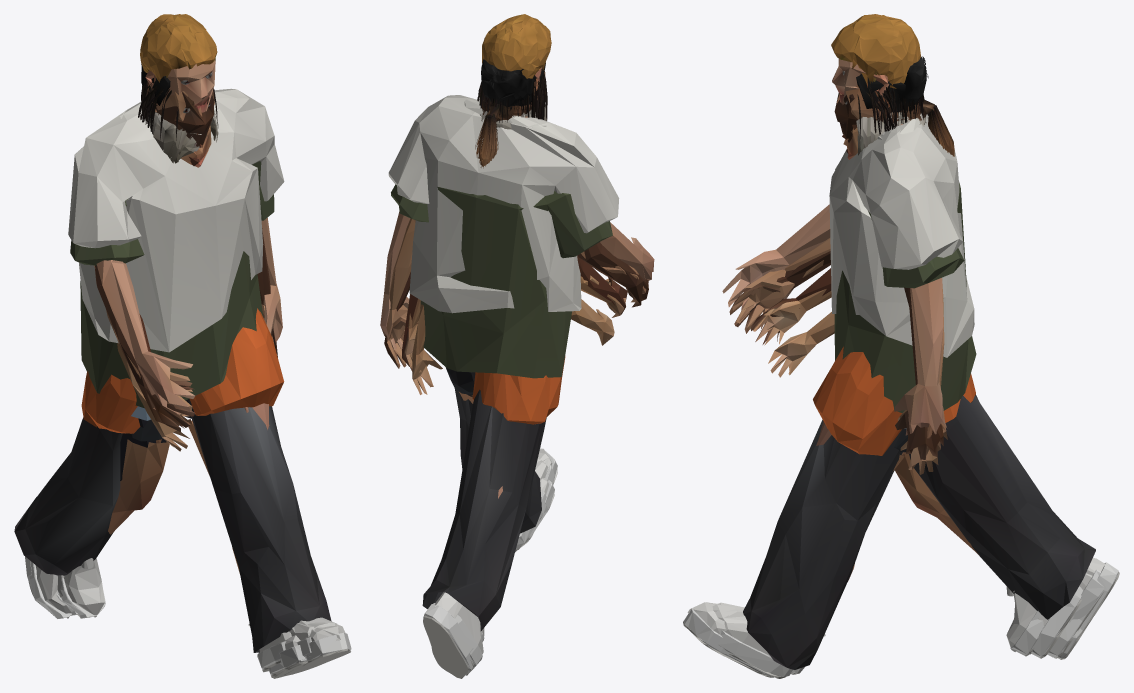
The model's file is walkers.glb.
3 renders of one model, left to right at view 1: azimuth 30°, elevation 25°; view 2: azimuth 150°, elevation 25°; view 3: azimuth 270°, elevation 25°, orthographic. The views are drawn at different scales.
Parts seen in each view (by area): view 1: Look D2, Look 01, Look 09, Look 06, Look A, Look 04; view 2: Look D2, Look 09, Look 01, Look 06, Look 04, Look A; view 3: Look D2, Look 01, Look 09, Look 06, Look A, Look 04.
Boxes of the visible parts, <box> form: Look D2: <box>25,14,351,676</box>; Look 01: <box>14,80,336,652</box>; Look 09: <box>70,63,326,658</box>; Look 06: <box>60,343,291,672</box>; Look A: <box>57,110,306,677</box>; Look 04: <box>56,144,307,678</box>; Look D2: <box>380,14,654,678</box>; Look 09: <box>386,59,646,604</box>; Look 01: <box>384,73,648,675</box>; Look 06: <box>412,299,614,641</box>; Look 04: <box>402,99,627,478</box>; Look A: <box>405,104,625,549</box>; Look D2: <box>683,14,1119,677</box>; Look 01: <box>712,86,1095,677</box>; Look 09: <box>717,56,1104,658</box>; Look 06: <box>768,312,1043,674</box>; Look A: <box>753,112,1083,658</box>; Look 04: <box>750,100,1080,678</box>.
Bounding box in the file's own units: 0.6339 × 1.73 × 1.05.
